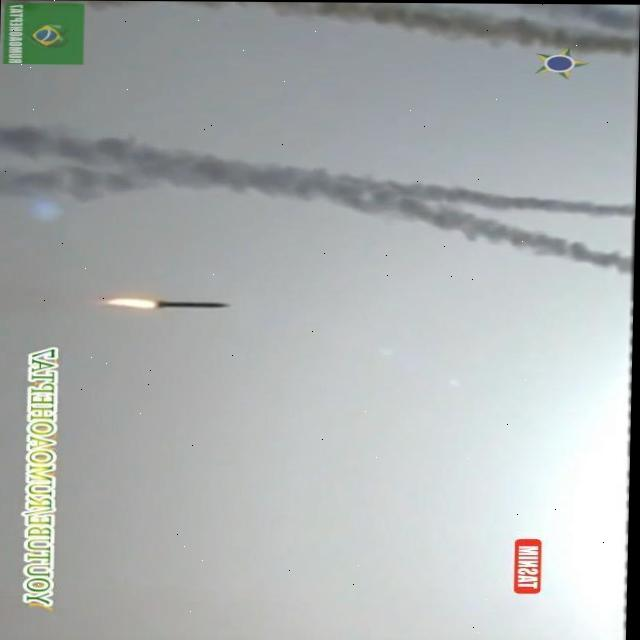missile: (154, 296, 232, 312)
